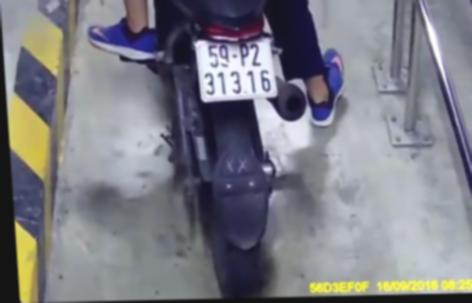License_Plate: (191, 32, 282, 105)
